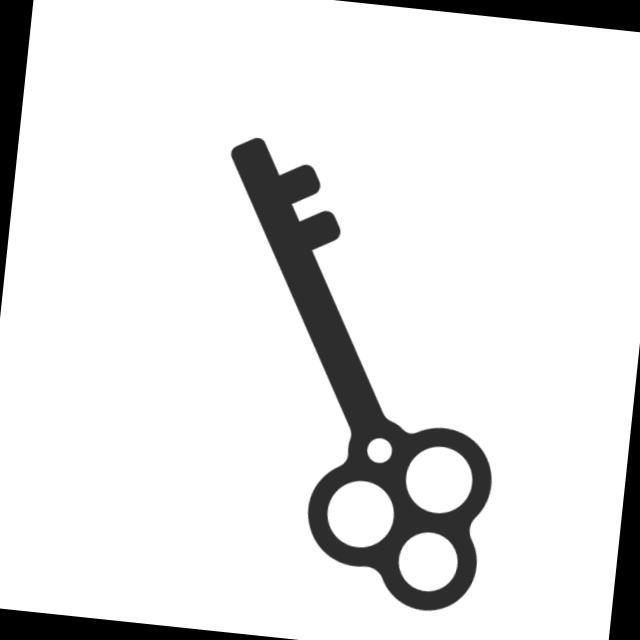key: (175, 131, 525, 620)
